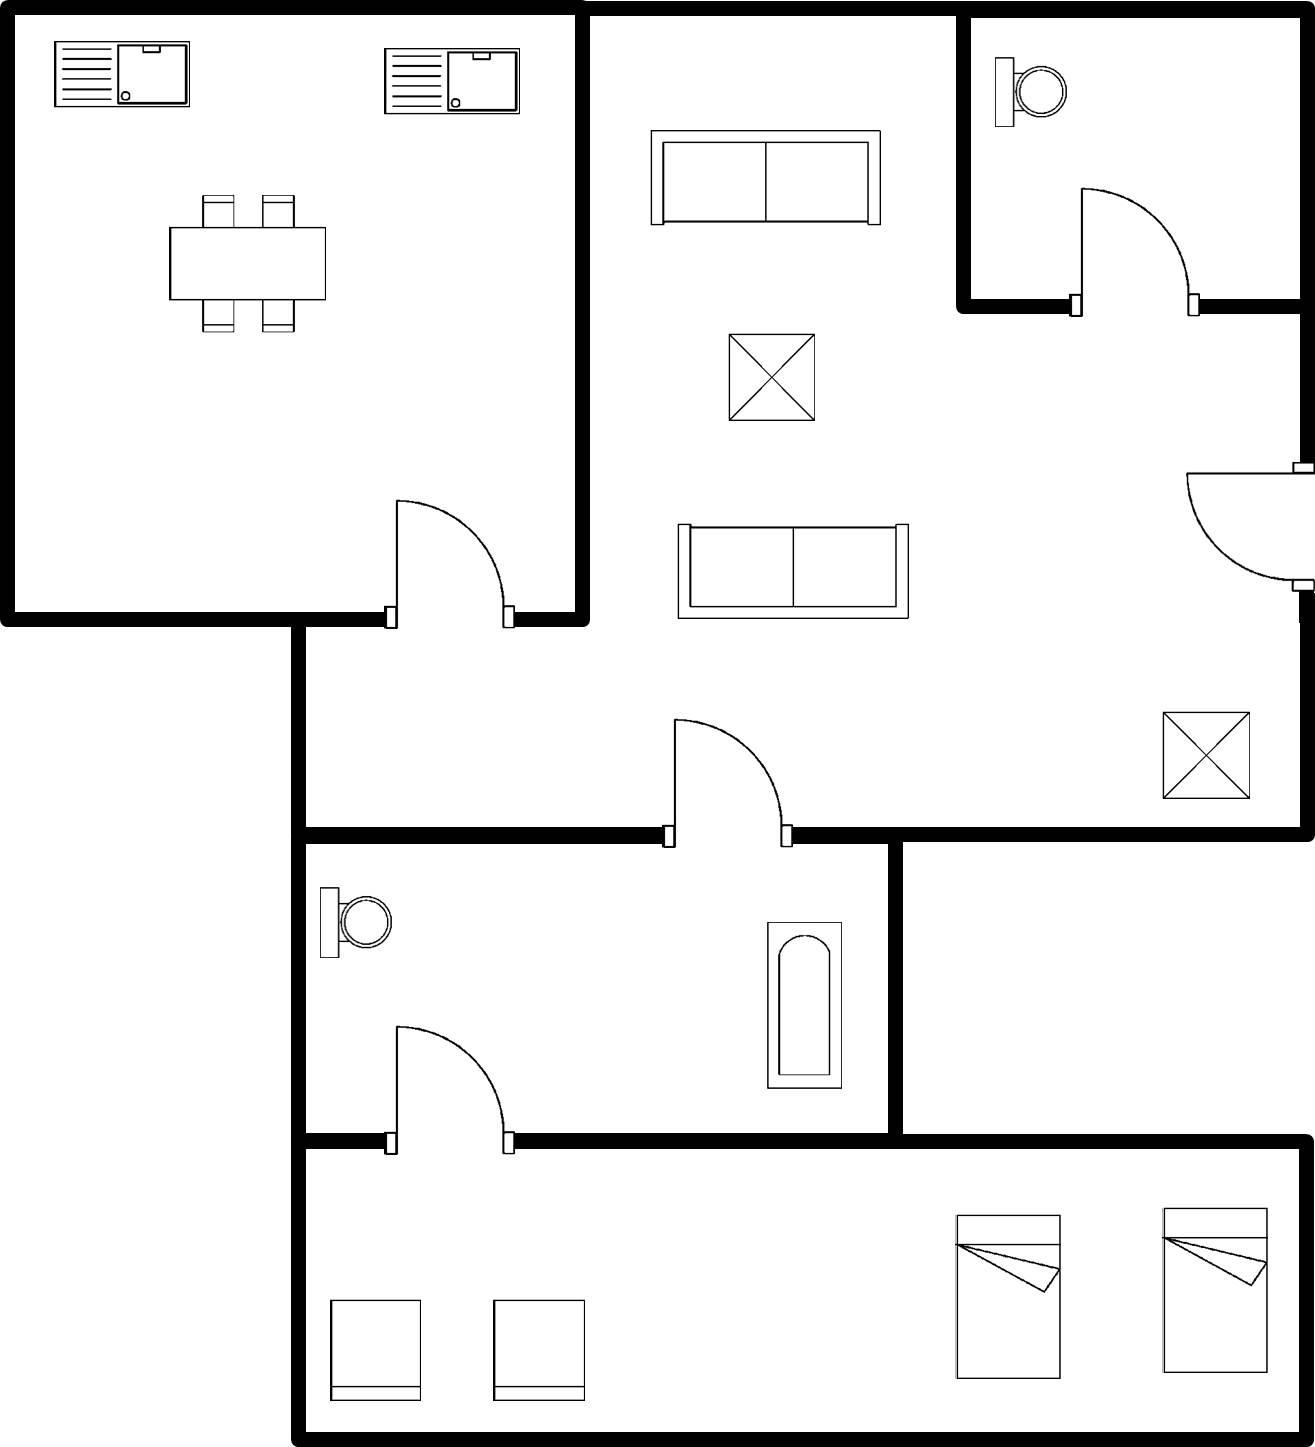bed: (941, 1202, 1075, 1389), (1147, 1195, 1278, 1386)
dining_table: (158, 184, 334, 344)
sink: (369, 39, 531, 125), (40, 33, 195, 118)
sofa: (635, 113, 891, 236), (664, 510, 919, 626)
toilet: (311, 870, 398, 972), (986, 43, 1078, 137)
tub: (753, 913, 854, 1099)
